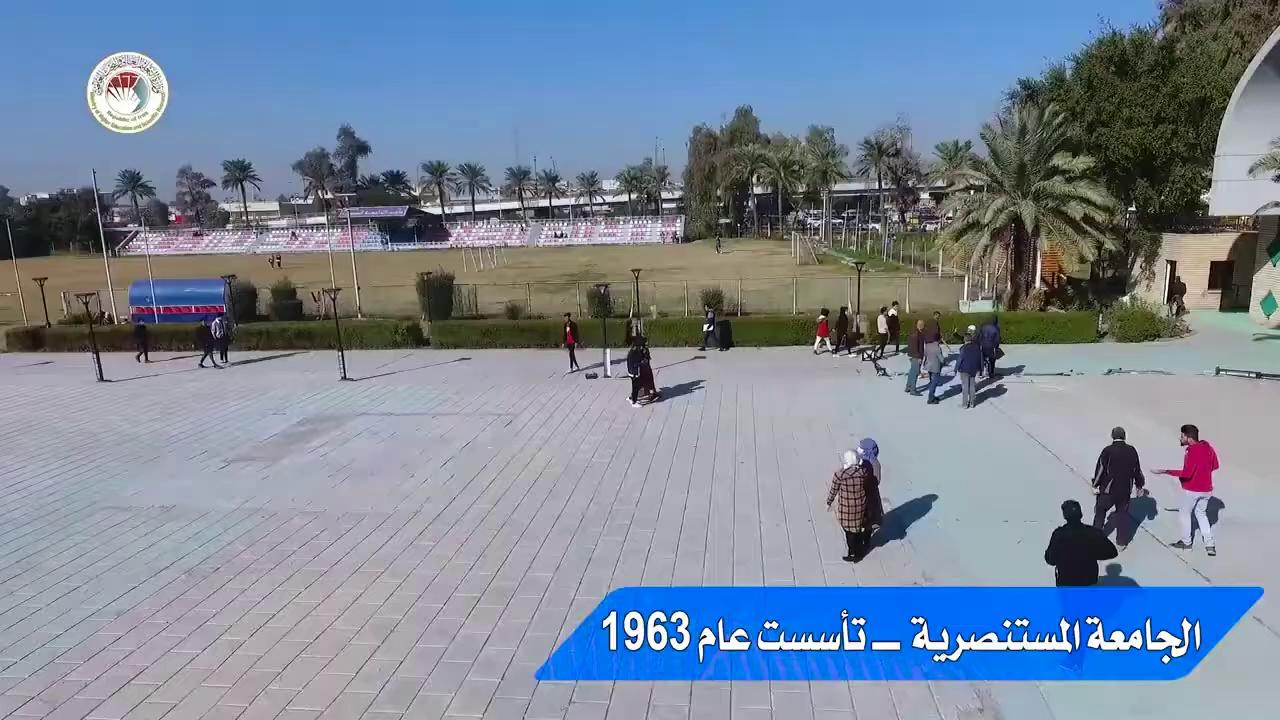person: (1150, 424, 1219, 556), (1091, 426, 1145, 548), (1044, 499, 1117, 586), (825, 449, 867, 561), (855, 438, 883, 548), (953, 326, 983, 408), (626, 335, 659, 405), (904, 318, 925, 395), (195, 318, 223, 369), (979, 314, 1000, 379), (211, 313, 235, 362), (562, 311, 580, 371), (832, 305, 853, 356), (813, 307, 835, 355), (698, 304, 720, 350), (872, 305, 889, 358), (1168, 274, 1187, 317), (134, 318, 151, 363), (886, 300, 900, 353), (714, 233, 722, 254), (275, 252, 282, 268)
tree: (931, 99, 1121, 310), (680, 102, 850, 240), (801, 129, 849, 242), (718, 140, 772, 236), (680, 123, 722, 239), (755, 135, 803, 236), (854, 128, 901, 212), (613, 157, 669, 216), (883, 149, 921, 228), (219, 156, 262, 224), (331, 121, 371, 190), (289, 145, 334, 203), (111, 167, 156, 224), (928, 137, 974, 188), (454, 160, 492, 220), (178, 167, 216, 227), (419, 158, 453, 221), (265, 275, 303, 321), (723, 102, 760, 148), (503, 164, 532, 220), (534, 166, 564, 218), (1246, 136, 1279, 183), (632, 158, 659, 215), (574, 168, 603, 217), (613, 164, 640, 216), (379, 167, 414, 203), (649, 162, 670, 215), (697, 287, 724, 316)
